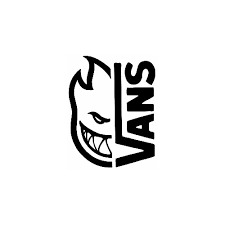vans: (114, 59, 155, 167)
